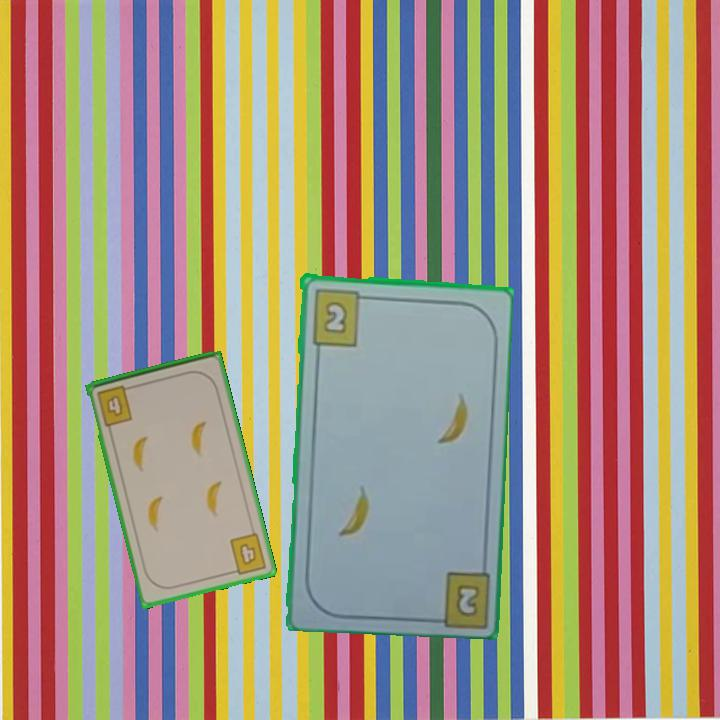2b: (308, 285, 371, 348), (452, 580, 482, 620)
4b: (226, 529, 270, 577), (93, 381, 136, 429)
